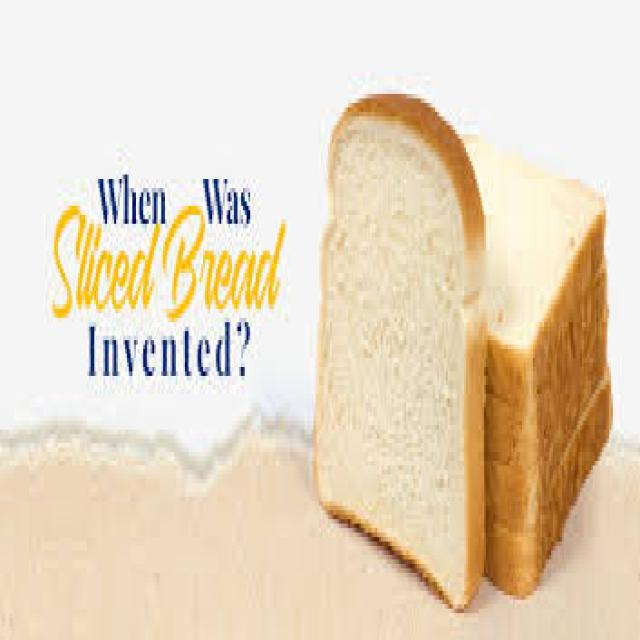Bread: (315, 96, 486, 606)
